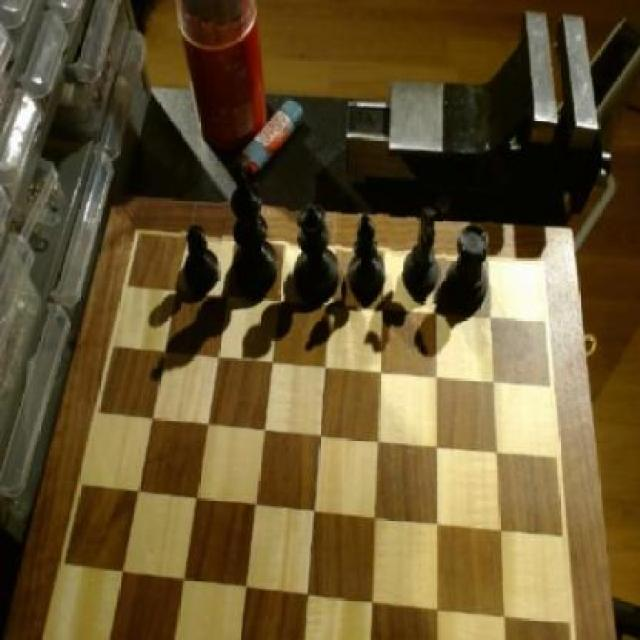bishop: (343, 203, 393, 303)
black-bishop: (222, 172, 286, 297)
black-king: (403, 203, 444, 303)
black-knight: (178, 220, 222, 295)
black-pawn: (288, 195, 342, 302)
black-queen: (446, 222, 497, 312)
